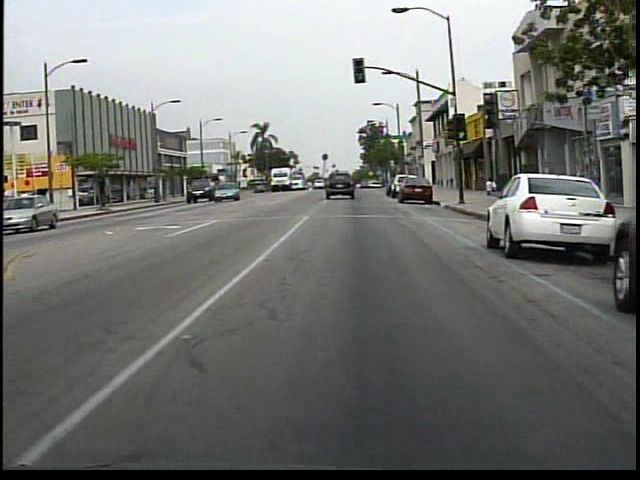person: (16, 186, 35, 218)
